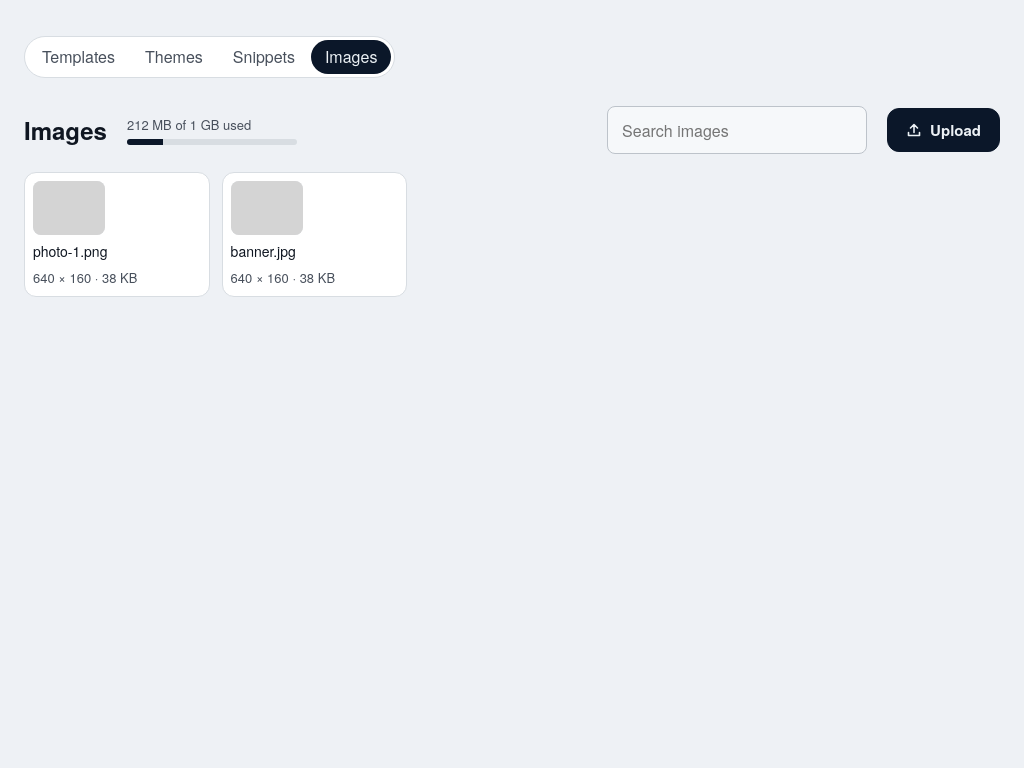
Test case: the image library › lets a member upload but not delete
The width and height of the screenshot is (1024, 768).
Expected: the button "Upload" is enabled, [887,108,1000,152]
Click the button "photo-1.png 640 × 160 · 38 KB".
click(117, 234)  # box [24,172,210,296]
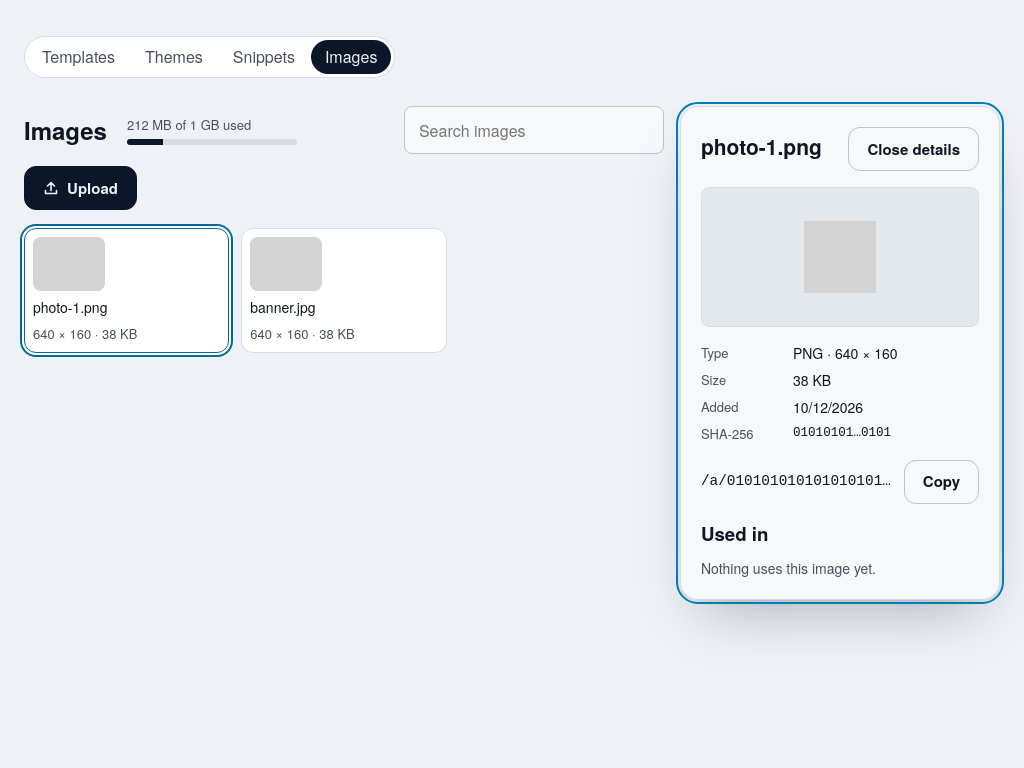
Expected: the heading "Used in" is shown, [701,520,768,546]
